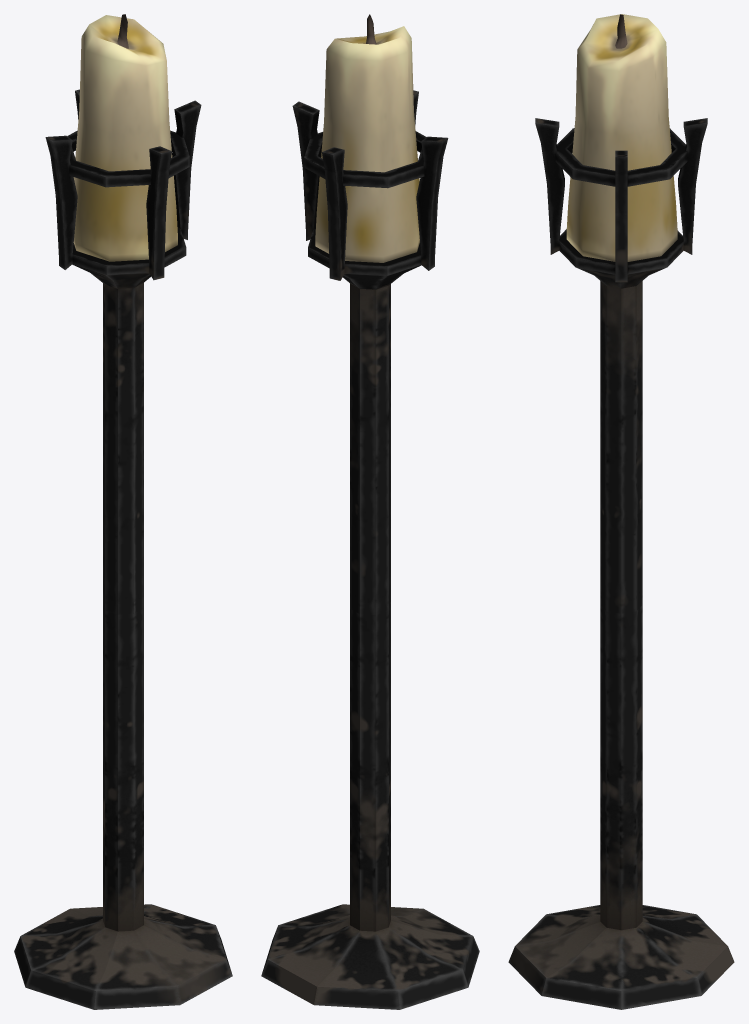
Rendered from candle_holder2.fbx.
3 views of the same model, side by side, from view 1: azimuth 30°, elevation 25°; view 2: azimuth 150°, elevation 25°; view 3: azimuth 270°, elevation 25° (orthographic).
Visible parts, largest first — view 1: candleHolder2, candleHolder2_candle; view 2: candleHolder2, candleHolder2_candle; view 3: candleHolder2, candleHolder2_candle.
Part boxes in pixels (x1,y1,x2,y2): candleHolder2: (14, 89, 232, 1009); candleHolder2_candle: (73, 14, 177, 261); candleHolder2: (261, 90, 479, 1009); candleHolder2_candle: (315, 14, 419, 262); candleHolder2: (508, 118, 734, 1009); candleHolder2_candle: (566, 14, 677, 261).
Size of the model in its own units: 28.47 by 132 by 28.47.
